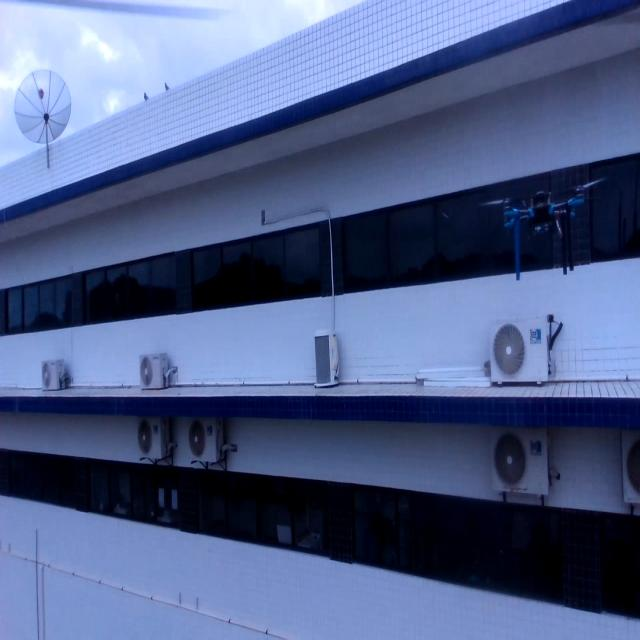-uav-: (473, 163, 618, 290)
